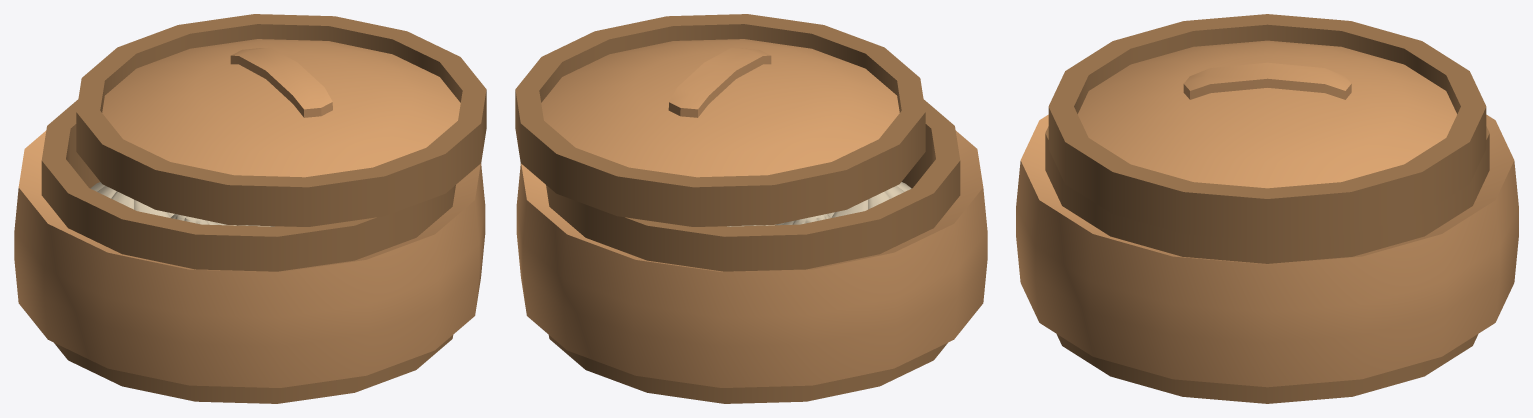
The model's file is Chukaman Steamer.glb.
3 views of the same model, side by side, from view 1: azimuth 30°, elevation 25°; view 2: azimuth 150°, elevation 25°; view 3: azimuth 270°, elevation 25° (orthographic). The views are drawn at different scales.
Parts seen in each view (by area): view 1: Environment_ChukamanSteamer, ChukamanSteamer_Lid; view 2: Environment_ChukamanSteamer, ChukamanSteamer_Lid; view 3: Environment_ChukamanSteamer, ChukamanSteamer_Lid.
Part boxes in pixels (<box>): Environment_ChukamanSteamer: <box>14,99,485,403</box>; ChukamanSteamer_Lid: <box>76,14,486,226</box>; Environment_ChukamanSteamer: <box>516,99,987,403</box>; ChukamanSteamer_Lid: <box>515,14,925,226</box>; Environment_ChukamanSteamer: <box>1016,114,1518,403</box>; ChukamanSteamer_Lid: <box>1048,14,1486,241</box>.
Bounding box in the file's own units: 1.11 × 0.6135 × 1.09.
1 material, 1 textured.
